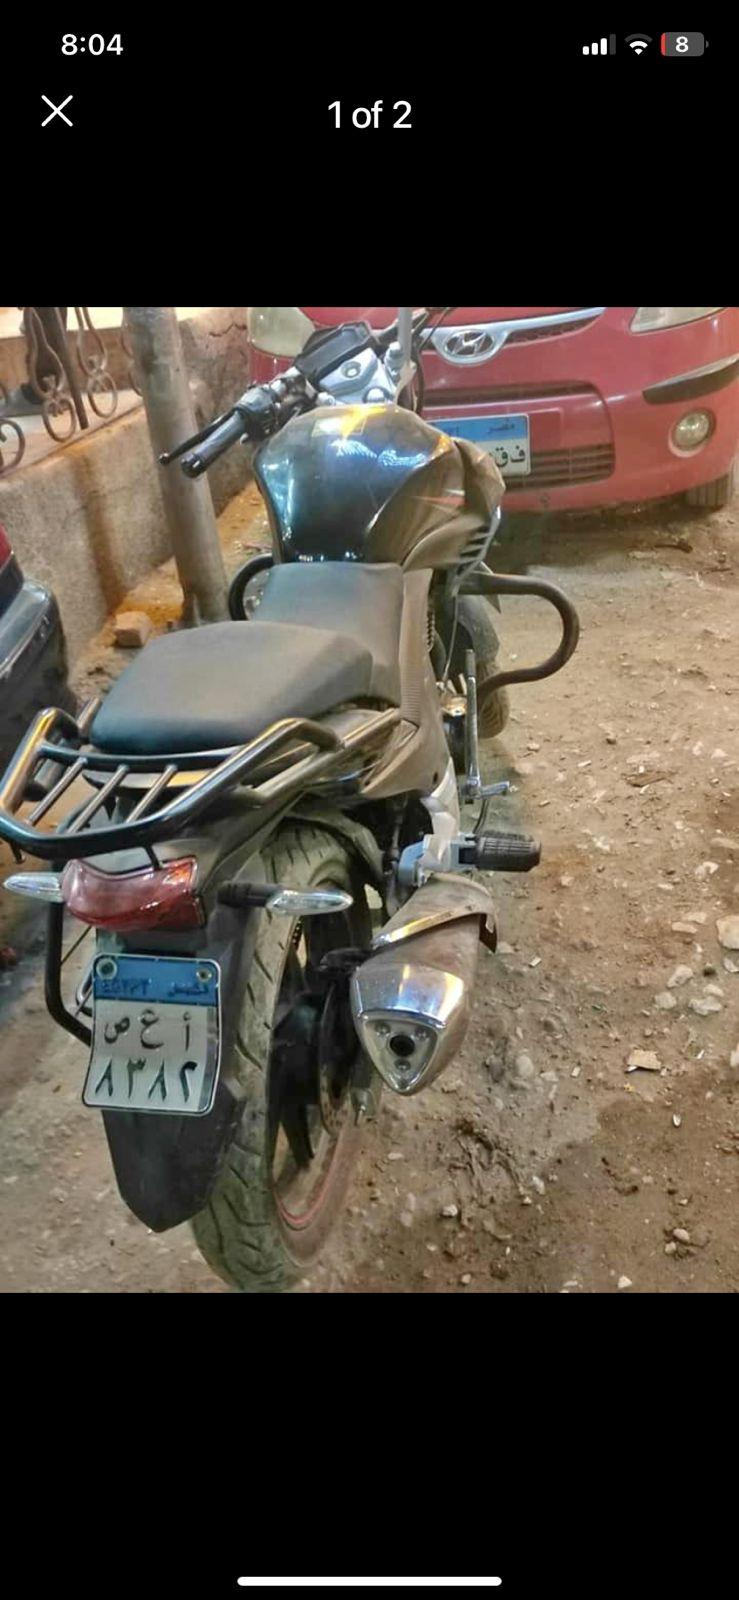License Plate: (74, 947, 233, 1123)
